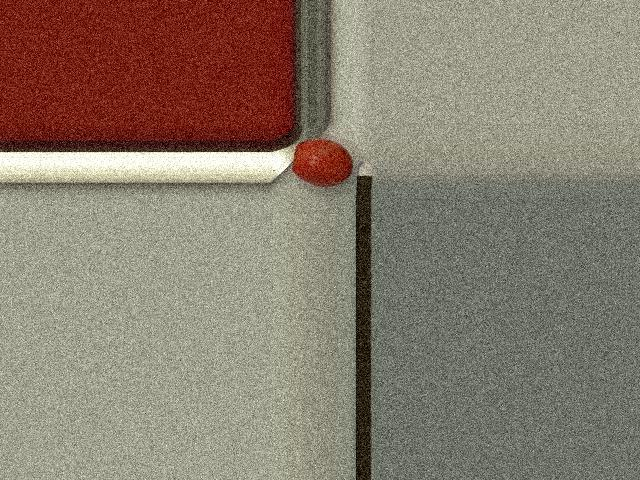tomato: (291, 138, 352, 187)
